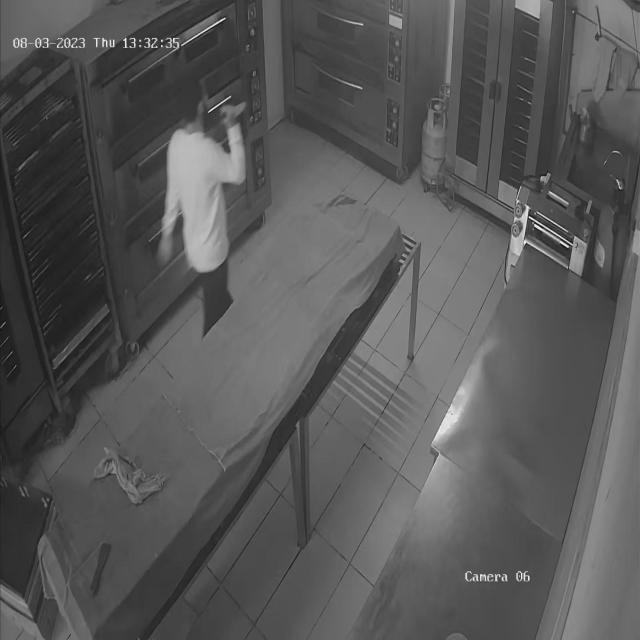Knife: (224, 94, 258, 128)
